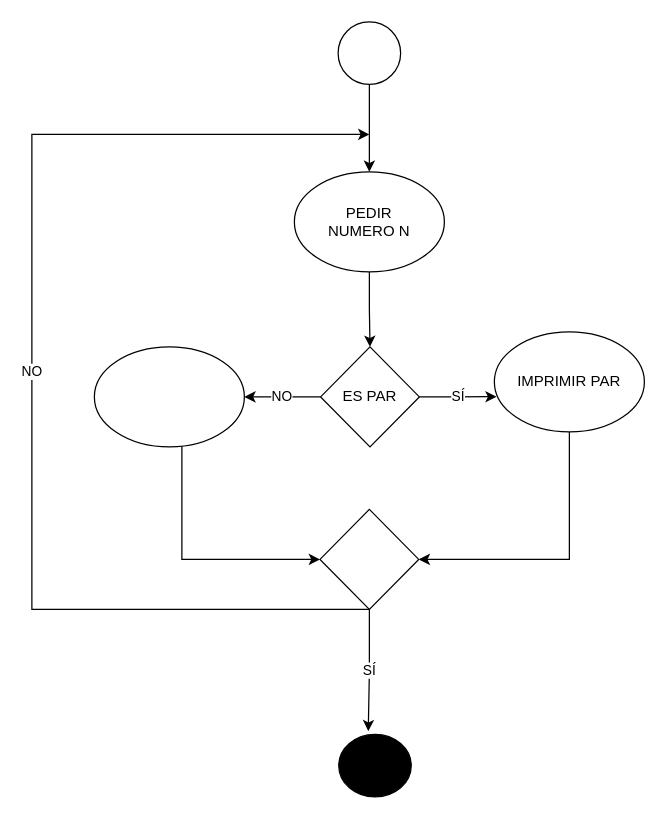
Some shapes in this 666 by 819 pixel diagram are drawn without their labels. The centre of each missing label's shape, as x and y in pixels:
"IMNPRIMIR N" goes at pixel 168 396.
"N = 0" goes at pixel 369 558.
